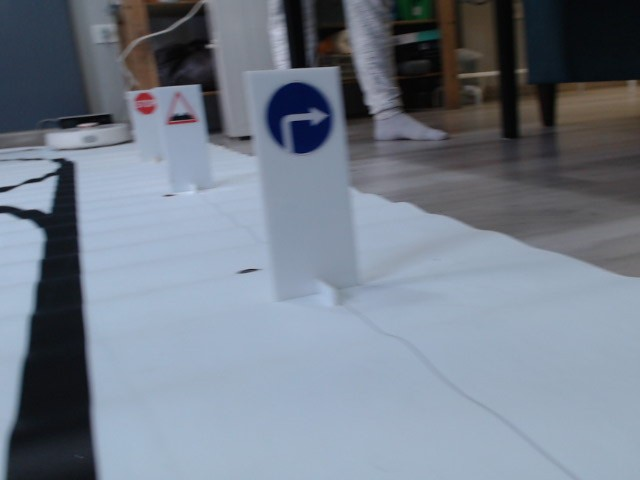Nerov: (163, 91, 200, 127)
Right: (264, 80, 333, 156)
